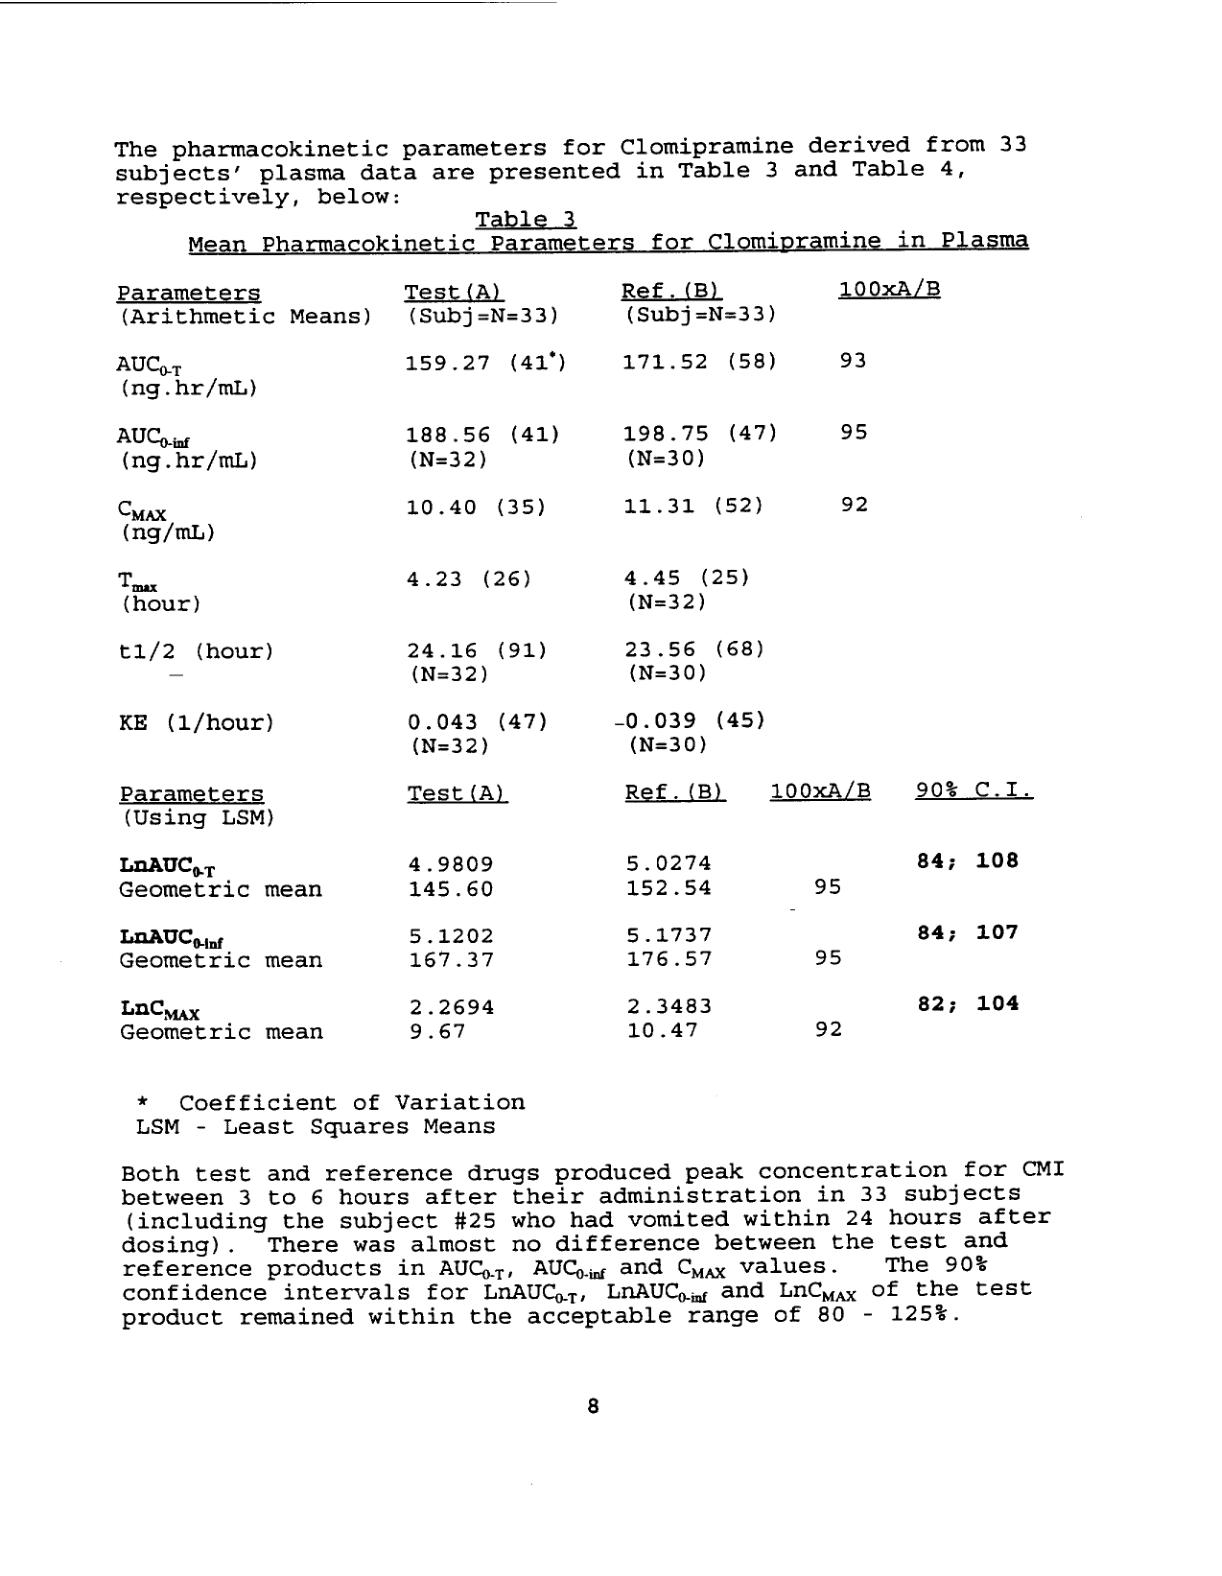nolines: (114, 281, 1035, 1048)
